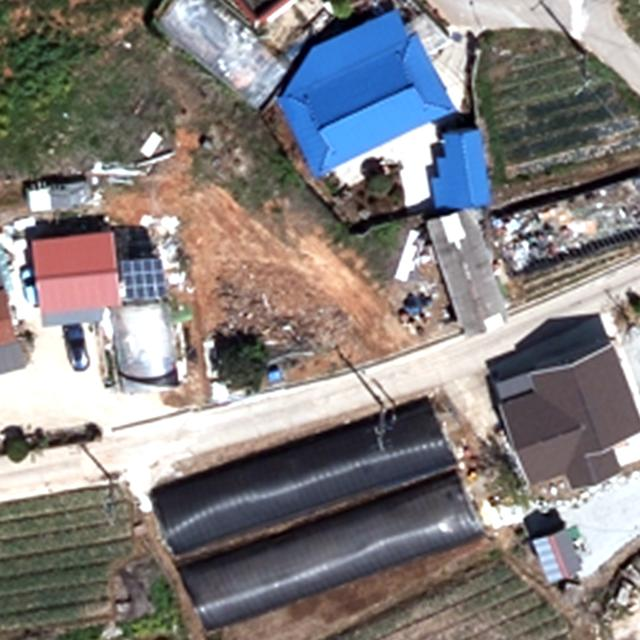panel: (118, 255, 170, 301)
